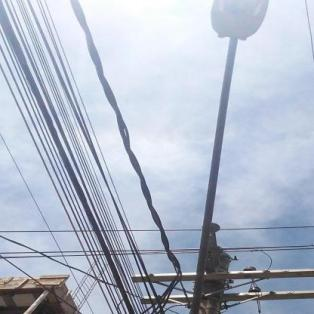Poste: (55, 239, 264, 314)
